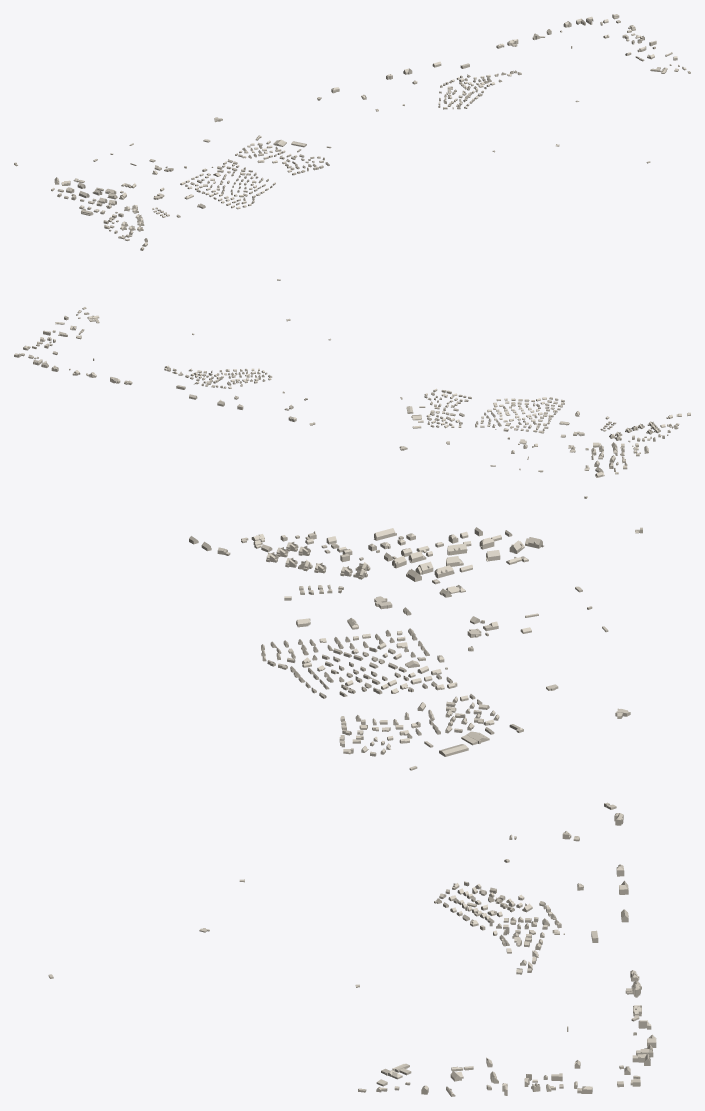
3 renders of one model, top to bottom at view 1: azimuth 30°, elevation 25°; view 2: azimuth 150°, elevation 25°; view 3: azimuth 270°, elevation 25°, orthographic. The views are drawn at different scales.
Size of the model in its own units: 1776 by 20.76 by 808.
